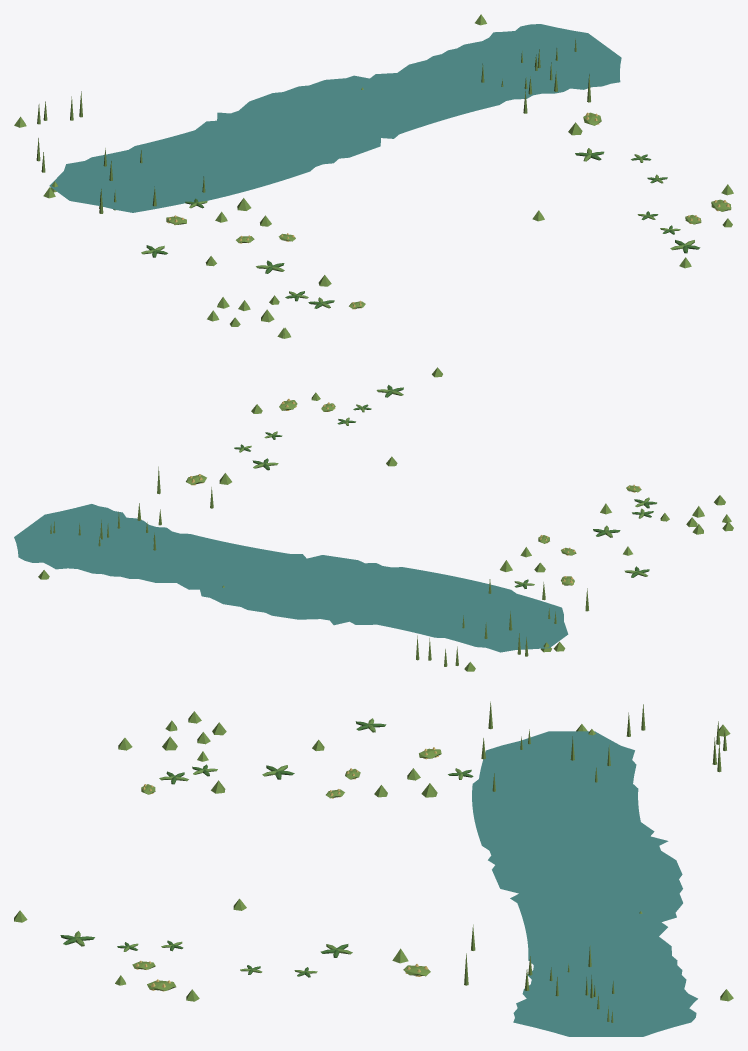
The model's file is cutbank_ford_nonsolid_props.fbx.
3 renders of one model, top to bottom at view 1: azimuth 30°, elevation 25°; view 2: azimuth 150°, elevation 25°; view 3: azimuth 270°, elevation 25°, orthographic. The views are drawn at different scales.
Parts seen in each view (by area): view 1: chunk_cutbank_ford__PropsNonSolid; view 2: chunk_cutbank_ford__PropsNonSolid; view 3: chunk_cutbank_ford__PropsNonSolid.
Boxes of the visible parts, x1,y1,x2,y2 form: chunk_cutbank_ford__PropsNonSolid: [14, 14, 733, 338]; chunk_cutbank_ford__PropsNonSolid: [14, 367, 733, 671]; chunk_cutbank_ford__PropsNonSolid: [14, 701, 733, 1036].
Bounding box in the file's own units: 199 × 16.25 × 191.
